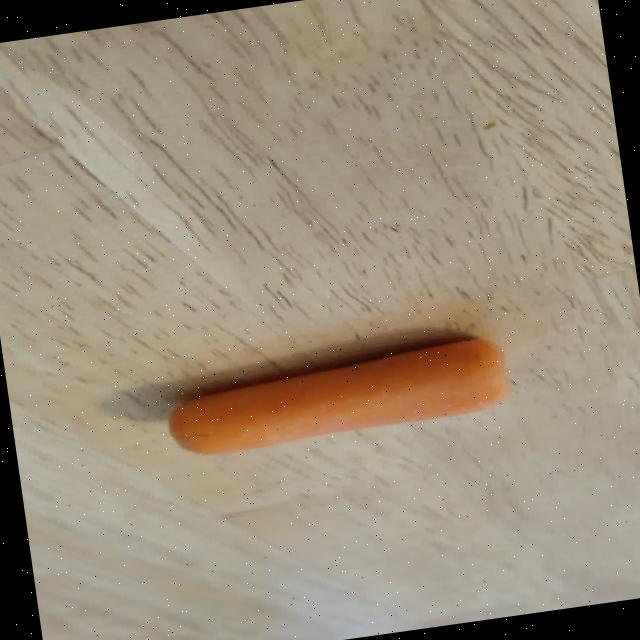carrot: (167, 338, 507, 454)
